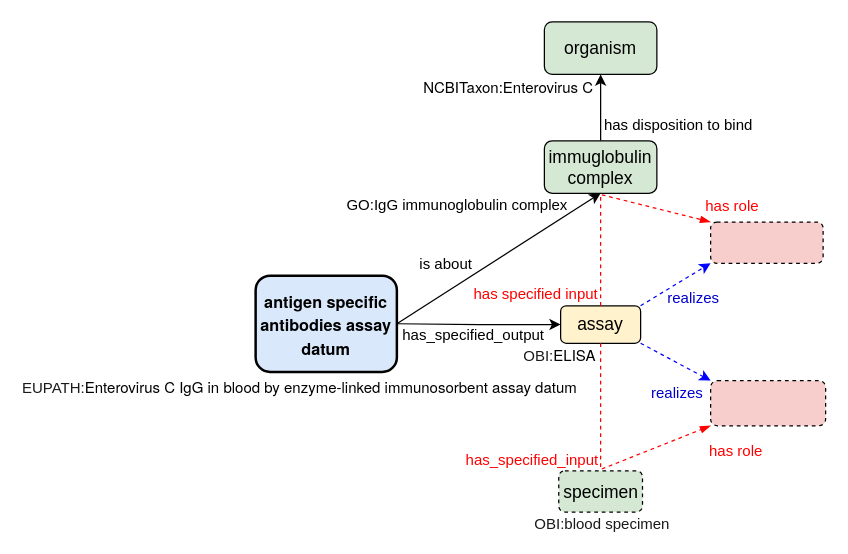
Image size: 848x554. Some labels were removed from this diagram. The box of each missing label's shape, as (x1, y1, x2, y2) in pixels:
evaluant role: (709, 379, 826, 426)
measurand role: (709, 221, 823, 263)
